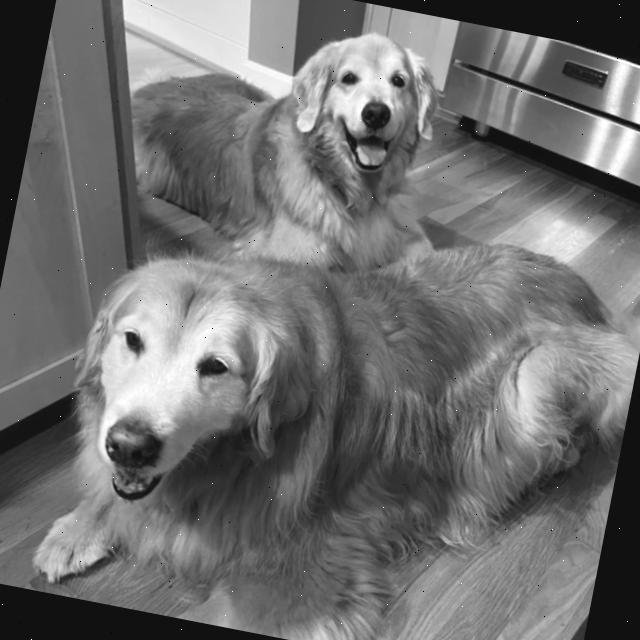golden_retriever_dog: (40, 221, 375, 574), (257, 10, 463, 204)
